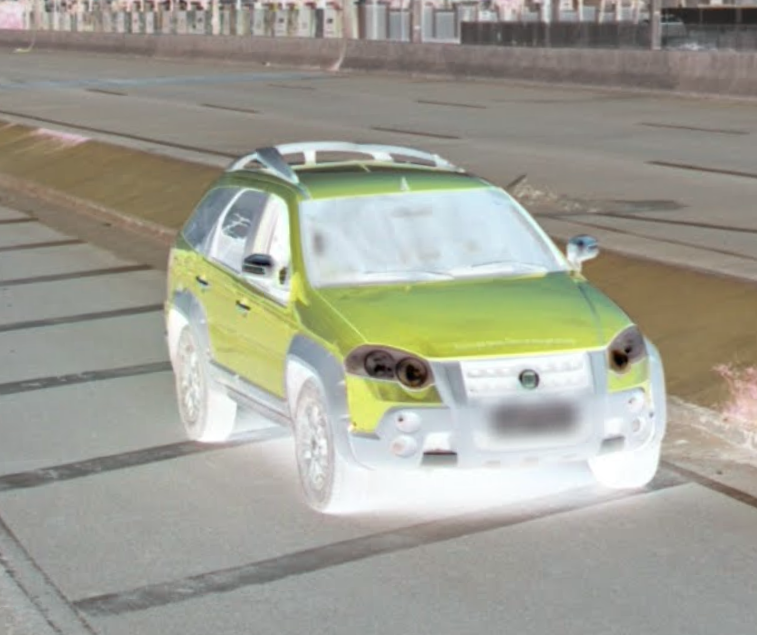car: (159, 137, 671, 519)
